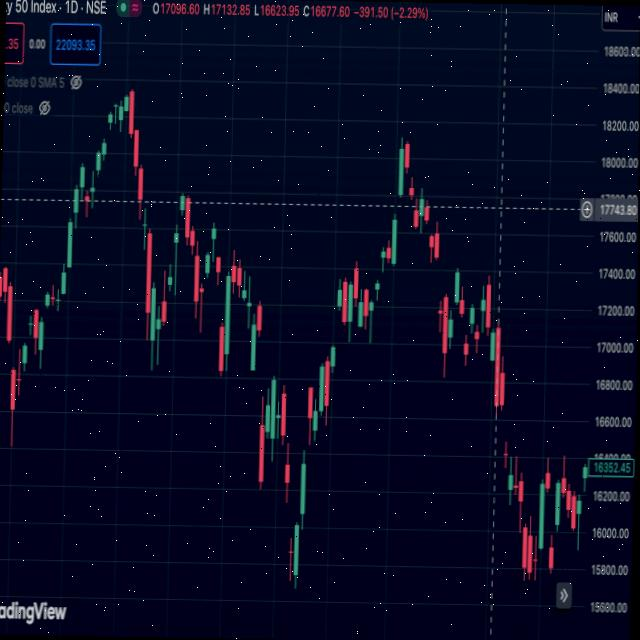Gap Down: (250, 298, 273, 503), (276, 432, 300, 606), (2, 272, 22, 460), (543, 458, 560, 578), (433, 220, 449, 342), (213, 259, 228, 387), (497, 368, 515, 471), (457, 289, 475, 375)
Gap Up: (389, 148, 411, 270), (328, 273, 344, 388), (172, 190, 186, 292), (38, 291, 54, 374), (371, 244, 390, 303), (101, 111, 114, 165)
